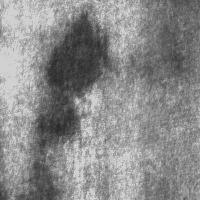patches: (43, 10, 106, 97), (149, 0, 200, 89), (32, 91, 81, 148), (23, 156, 62, 198)
